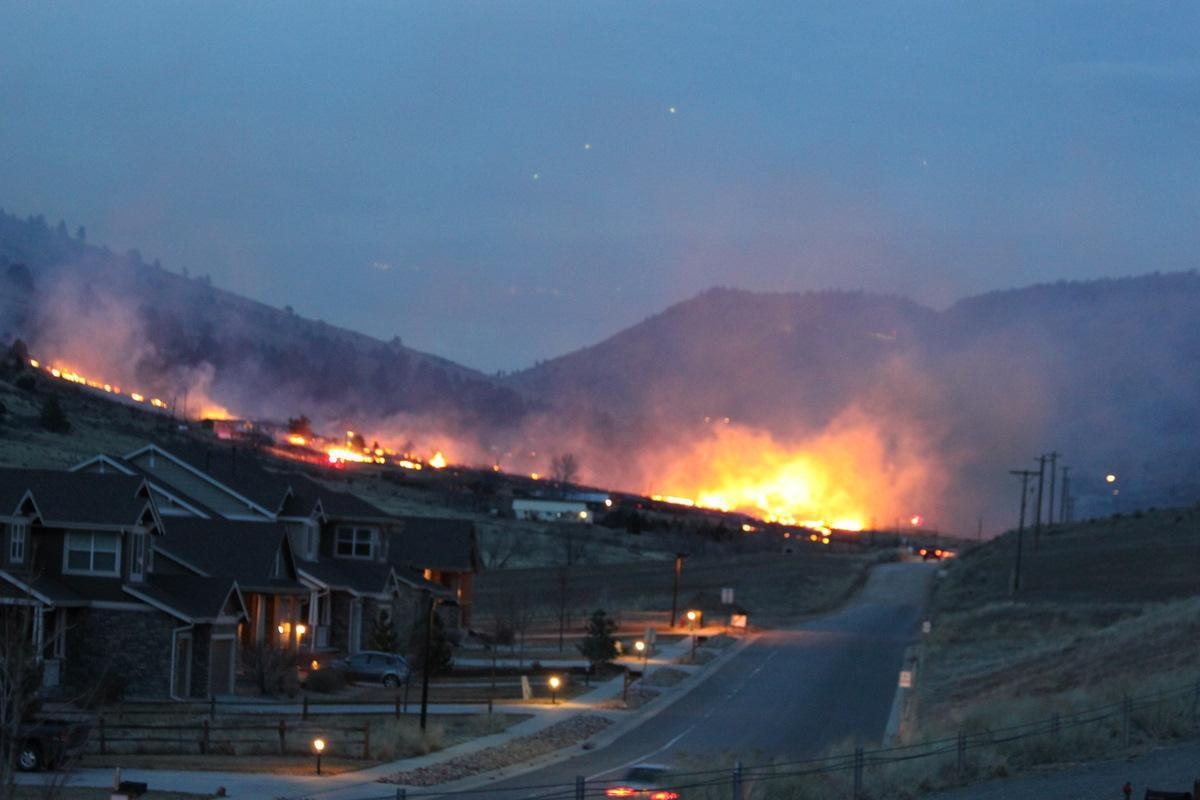fire: (652, 426, 887, 545), (6, 349, 240, 430), (270, 401, 460, 486)
